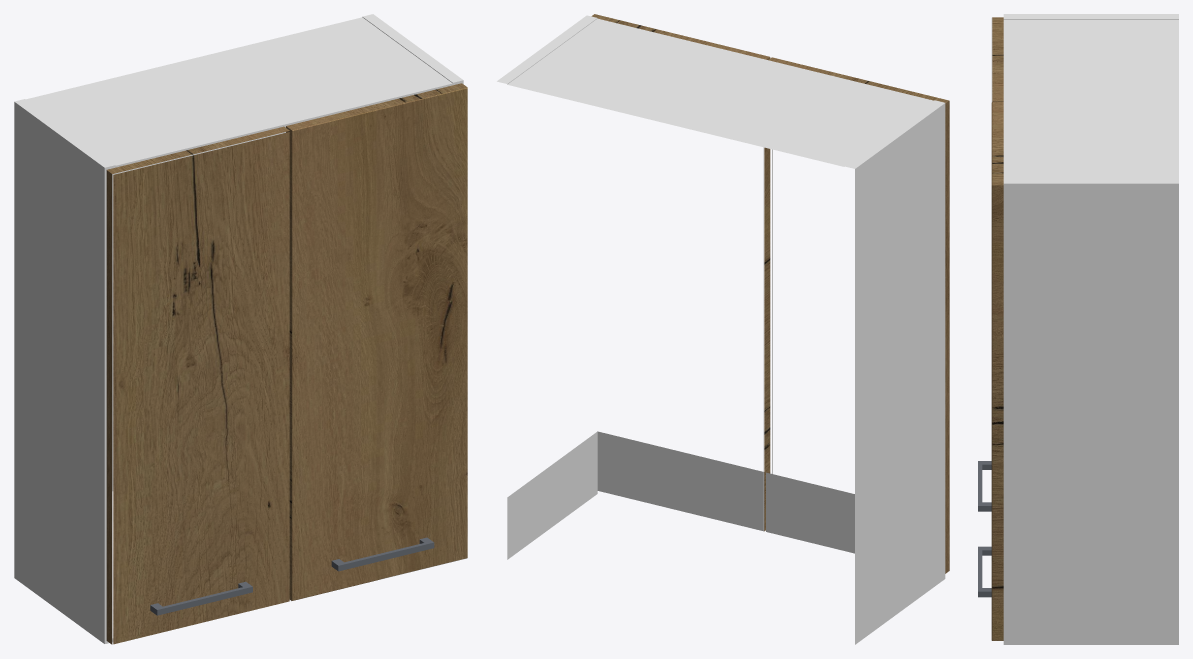
Rendered from gornji_ugradni_aspirator.glb.
3 renders of one model, left to right at view 1: azimuth 30°, elevation 25°; view 2: azimuth 150°, elevation 25°; view 3: azimuth 270°, elevation 25°, orthographic. The views are drawn at different scales.
Parts seen in each view (by area): view 1: Group1; view 2: Group1; view 3: Group1.
Part boxes in pixels (bbox=[...]): Group1: bbox=[14, 14, 467, 644]; Group1: bbox=[497, 14, 949, 644]; Group1: bbox=[978, 14, 1178, 644].
Size of the model in its own units: 600 by 761 by 300.
Materials: 5 (1 with a texture image).
